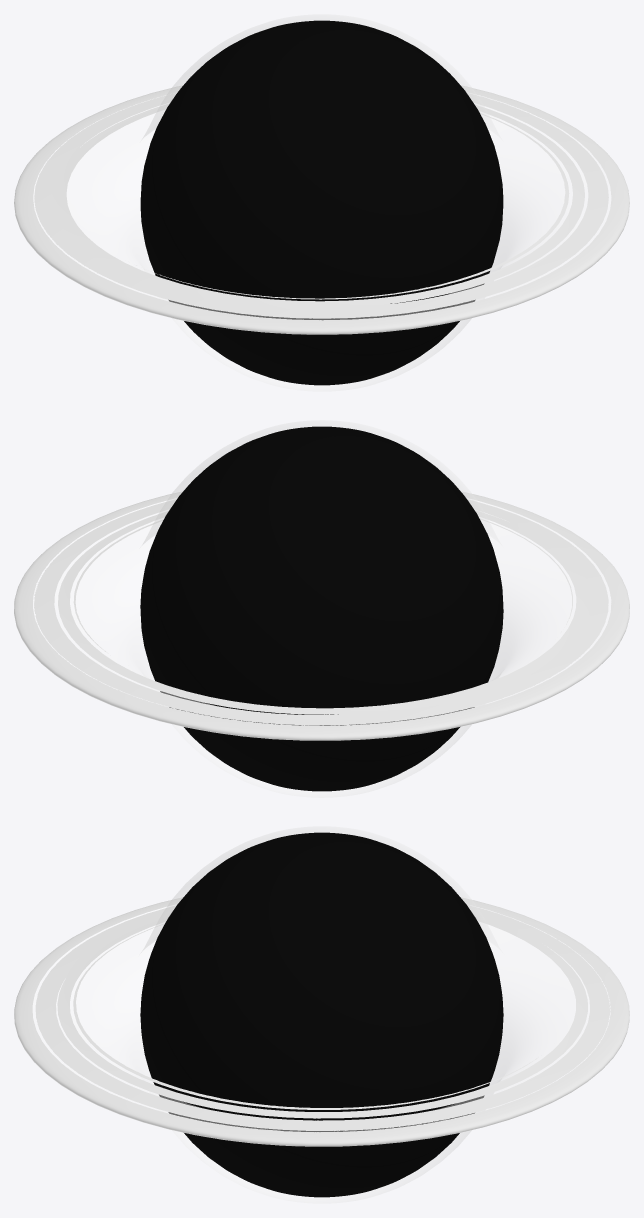
File: blackHole.glb
The picture shows the model from 3 angles, top to bottom: view 1: azimuth 30°, elevation 25°; view 2: azimuth 150°, elevation 25°; view 3: azimuth 270°, elevation 25°; orthographic projection.
Visible parts, largest first — view 1: hole_1, Sphere_0; view 2: hole_1, Sphere_0; view 3: hole_1, Sphere_0.
Boxes of the visible parts, x1,y1,x2,y2 form: hole_1: (140, 20, 503, 385); Sphere_0: (14, 14, 629, 391); hole_1: (140, 426, 503, 791); Sphere_0: (14, 420, 629, 797); hole_1: (140, 832, 503, 1197); Sphere_0: (14, 826, 629, 1203).
Size of what is drawn, in the model's own units: 31.82 by 19.59 by 31.82.
3 materials, 1 textured.
